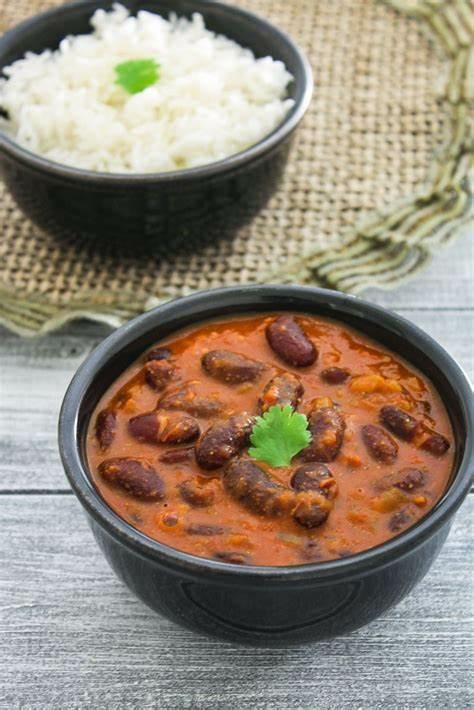RajmaCurry: (79, 295, 459, 562)
WhiteRice: (0, 1, 293, 174)
